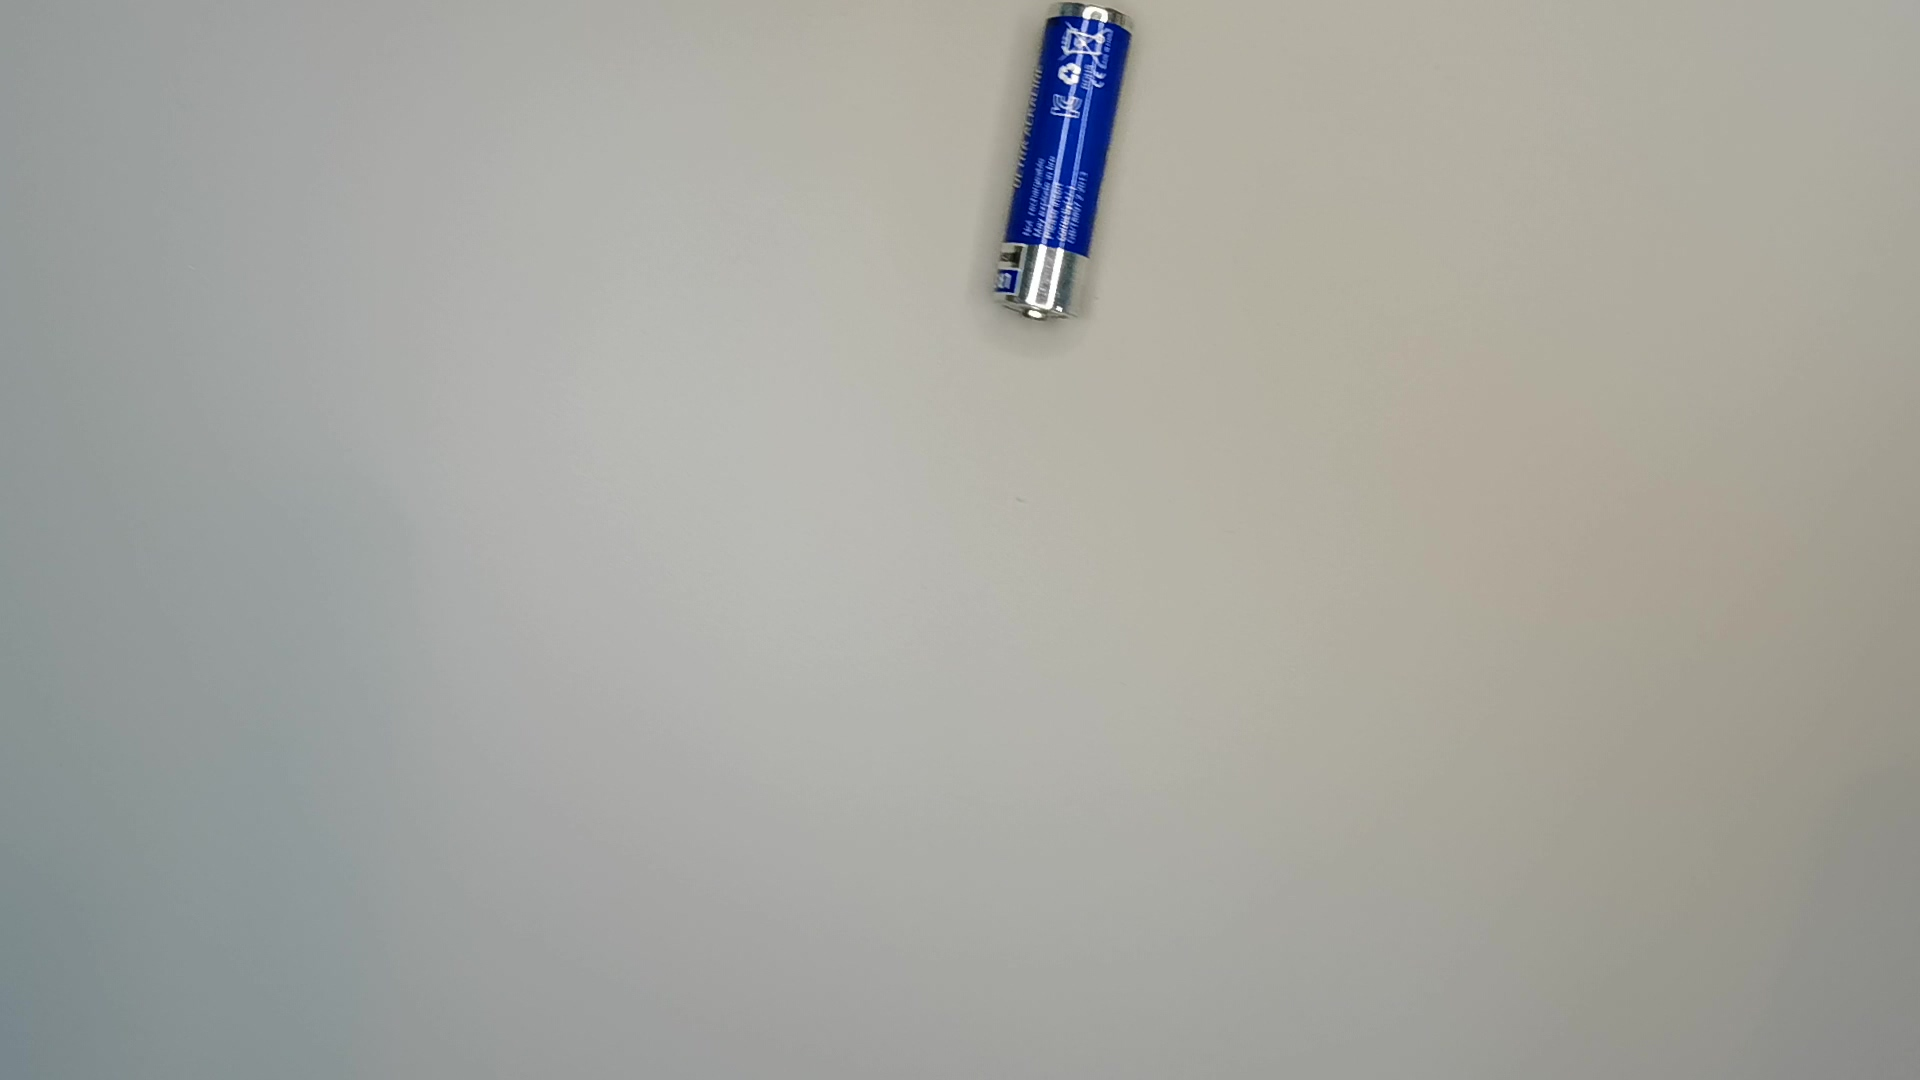battery: (989, 1, 1141, 331)
